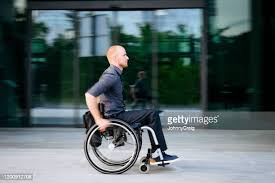wheelchair: (83, 45, 179, 175)
